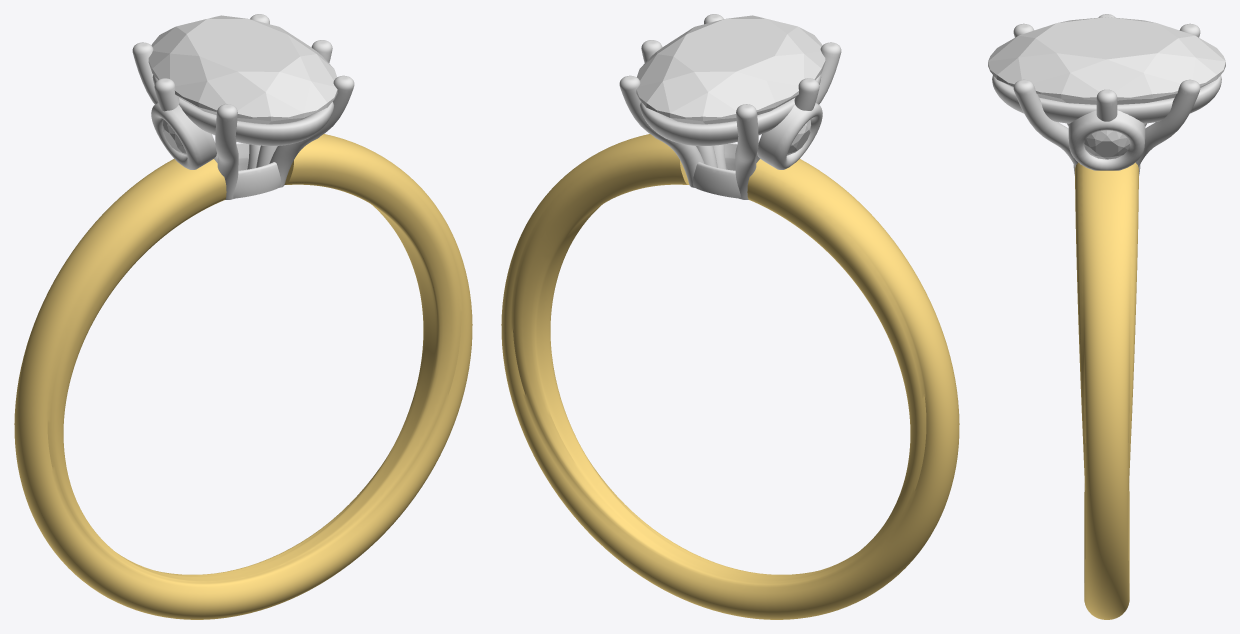
File: Ryan_Sabert_small_prongs_blender.glb
3 views of the same model, side by side, from view 1: azimuth 30°, elevation 25°; view 2: azimuth 150°, elevation 25°; view 3: azimuth 270°, elevation 25° (orthographic).
Visible parts, largest first — view 1: YG shank, diamond.002, PT head; view 2: YG shank, diamond.002, PT head; view 3: YG shank, diamond.002, PT head, diamond.
Boxes of the visible parts, x1,y1,x2,y2 form: YG shank: (14,134,472,619); diamond.002: (148,15,337,124); PT head: (132,14,354,199); YG shank: (501,134,959,619); diamond.002: (636,15,825,124); PT head: (619,14,841,199); YG shank: (1075,162,1138,619); diamond.002: (988,17,1225,104); PT head: (992,14,1221,175); diamond: (1084,130,1129,159).
Bounding box in the file's own units: 22.37 × 26.87 × 10.39.
